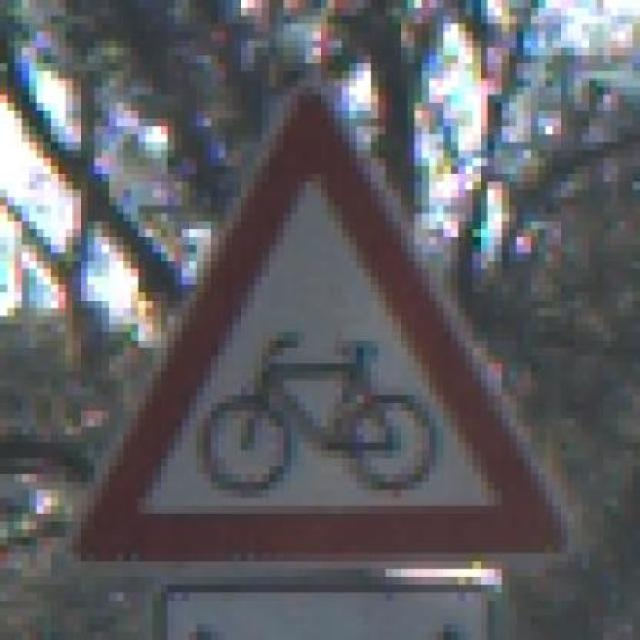CYCLE ROUTE AHEAD WARNING: (79, 63, 575, 569)
